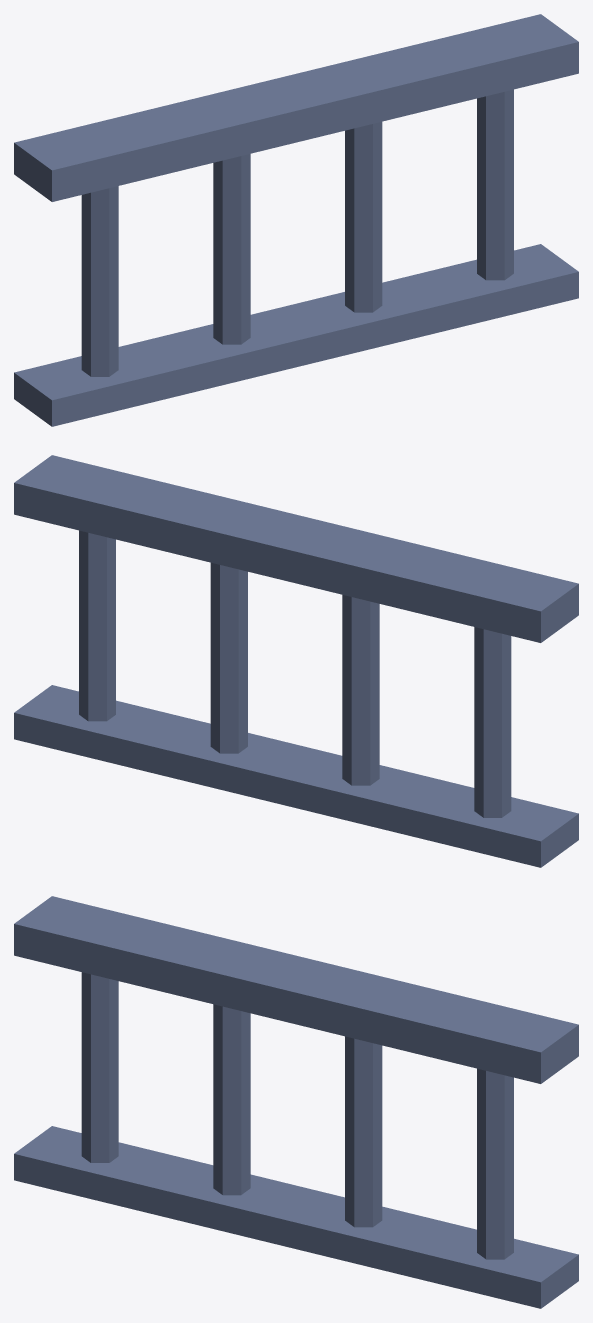
File: barandilla.fbx
3 renders of one model, top to bottom at view 1: azimuth 30°, elevation 25°; view 2: azimuth 150°, elevation 25°; view 3: azimuth 330°, elevation 25°, orthographic.
Visible parts, largest first — view 1: railing; view 2: railing; view 3: railing.
Part boxes in pixels (x1,y1,x2,y2): railing: (14,14,578,426); railing: (14,455,578,867); railing: (14,896,578,1308).
Bounding box in the file's own units: 210 × 97.86 × 26.3.
